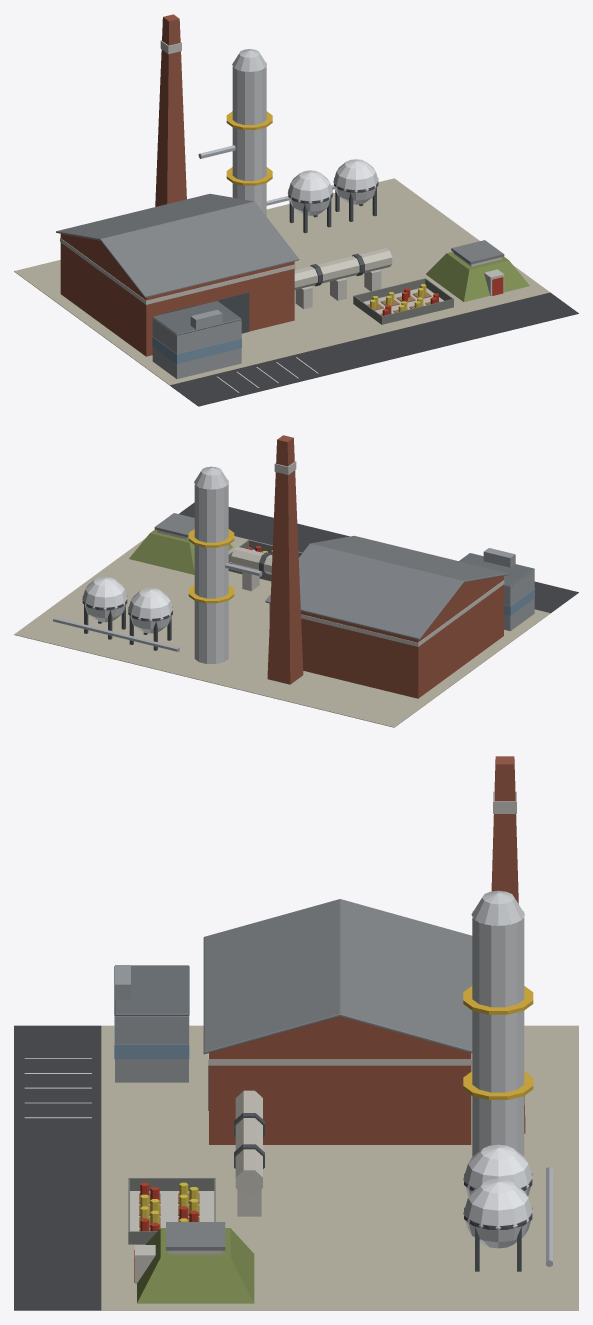
Rendered from chemworks.glb.
The picture shows the model from 3 angles, top to bottom: view 1: azimuth 30°, elevation 25°; view 2: azimuth 150°, elevation 25°; view 3: azimuth 270°, elevation 25°; orthographic projection. The views are drawn at different scales.
Visible parts, largest first — view 1: chemworks; view 2: chemworks; view 3: chemworks.
Boxes of the visible parts, left/top/right/bottom form: chemworks: left=14, top=14, right=578, bottom=406; chemworks: left=14, top=435, right=578, bottom=727; chemworks: left=14, top=756, right=578, bottom=1310.
Size of the model in its own units: 50 by 30 by 42.
